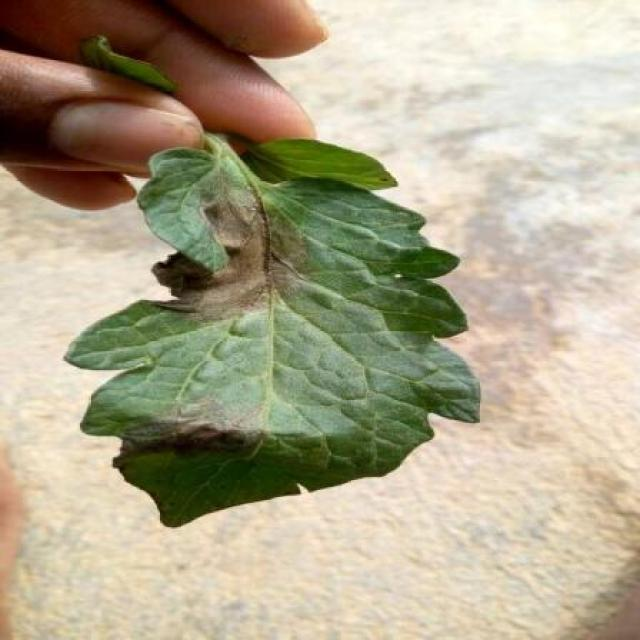Late Blight: (69, 135, 488, 531)
